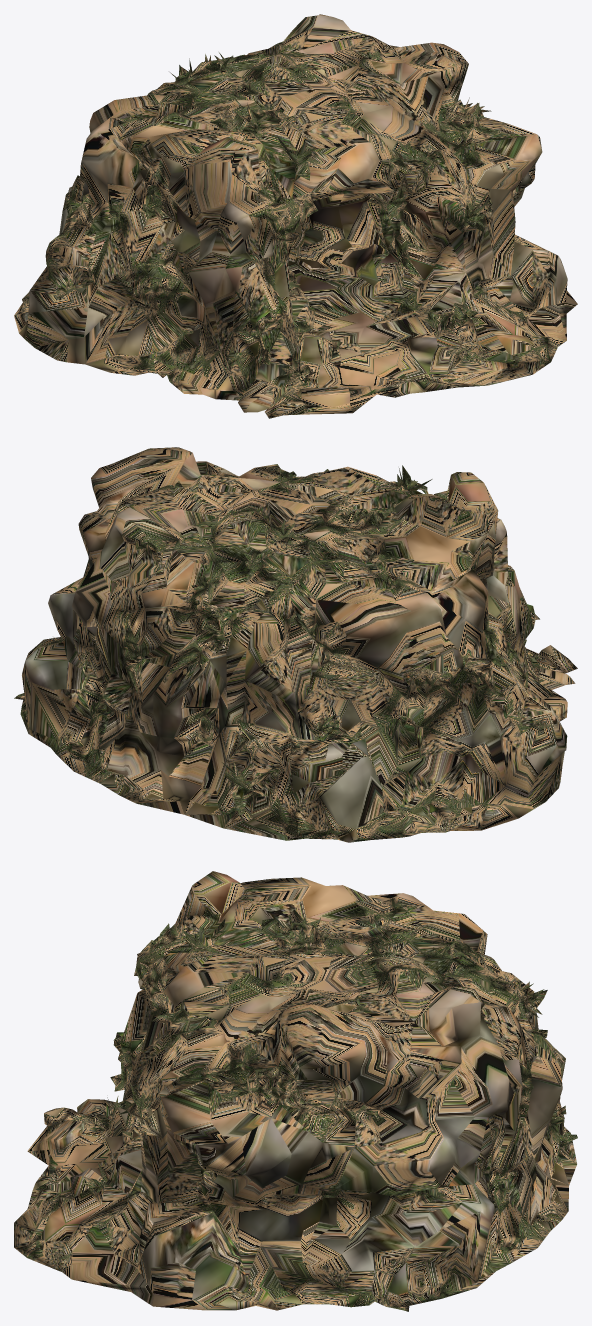
The model's file is Cave_Entrance.glb.
The picture shows the model from 3 angles, top to bottom: view 1: azimuth 30°, elevation 25°; view 2: azimuth 150°, elevation 25°; view 3: azimuth 270°, elevation 25°; orthographic projection. The views are drawn at different scales.
Visible parts, largest first — view 1: Cave_Entrance; view 2: Cave_Entrance; view 3: Cave_Entrance.
Part boxes in pixels (left/top/right/bottom): Cave_Entrance: left=14, top=14, right=577, bottom=418; Cave_Entrance: left=14, top=447, right=577, bottom=842; Cave_Entrance: left=14, top=871, right=577, bottom=1311.
Bounding box in the file's own units: 1.9 × 0.8591 × 1.76.
1 material, 1 textured.
